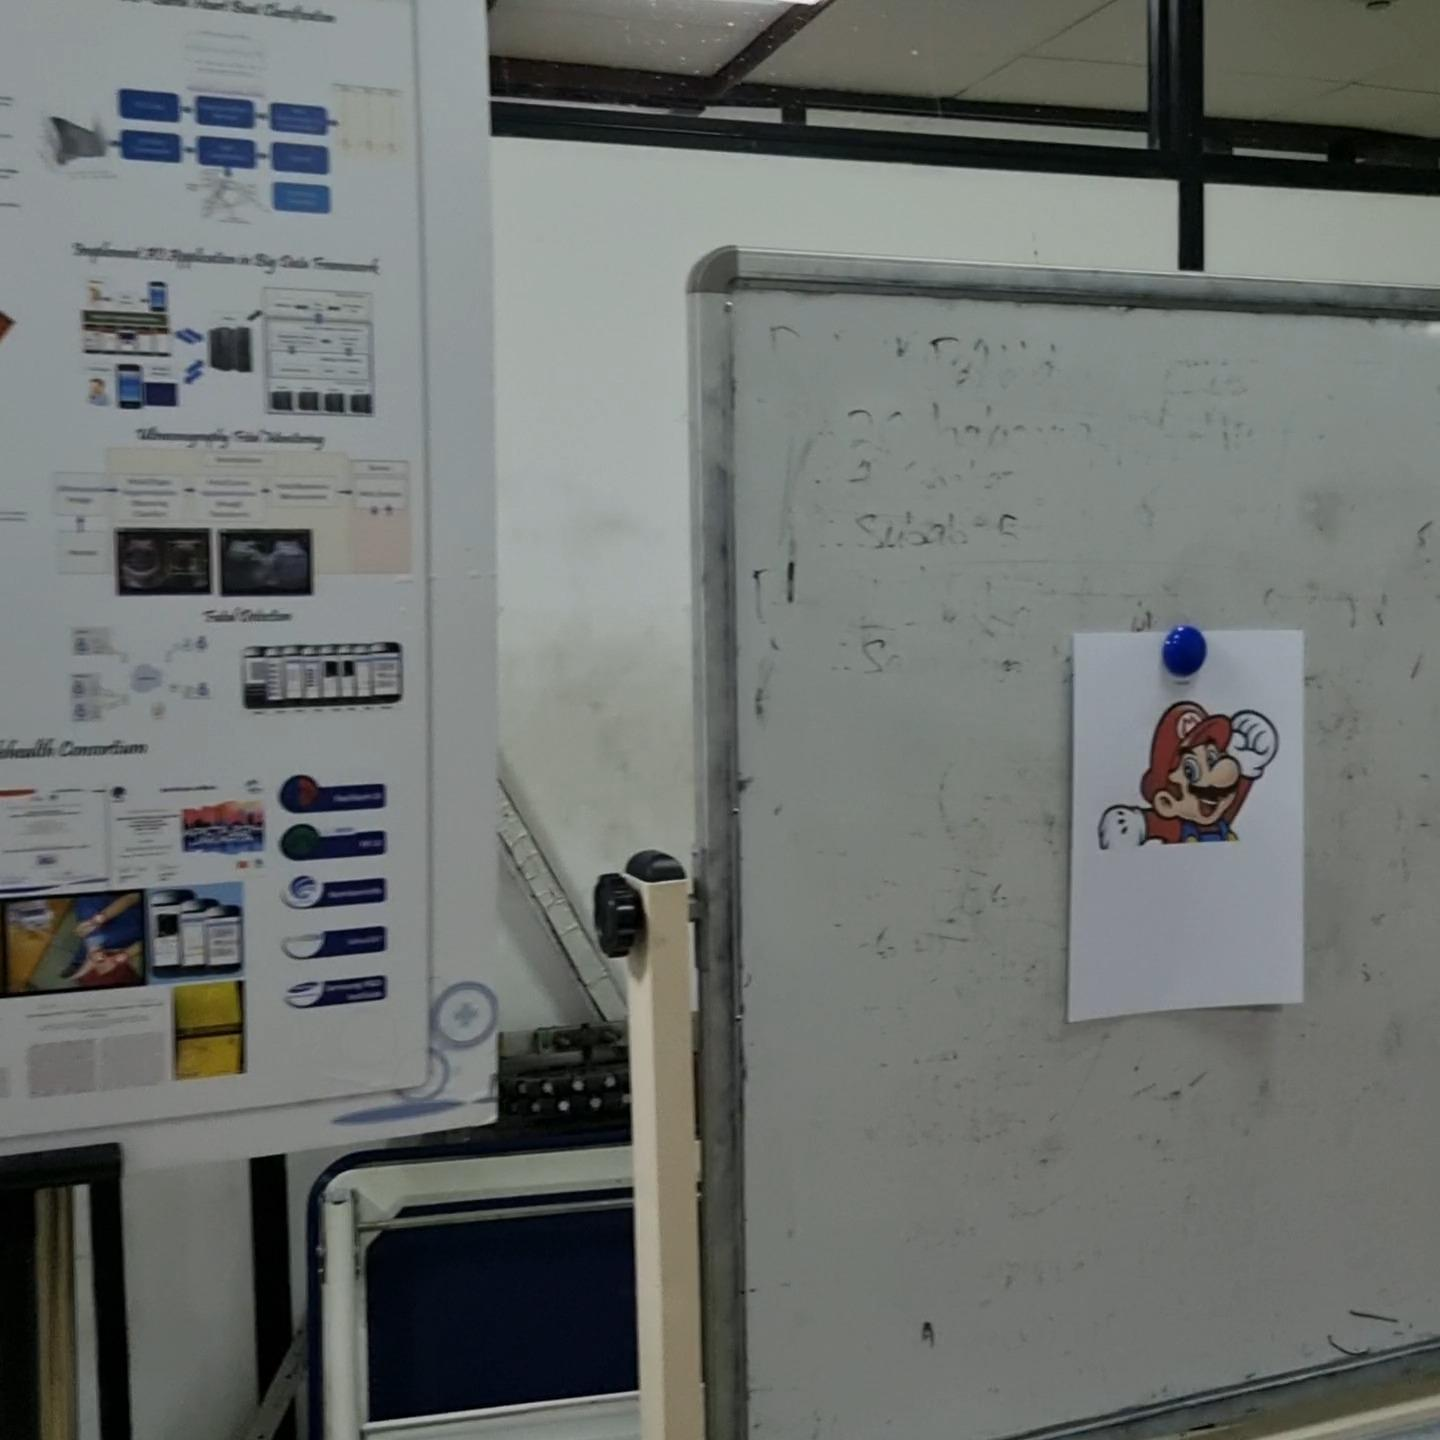mario: (1091, 694, 1283, 864)
